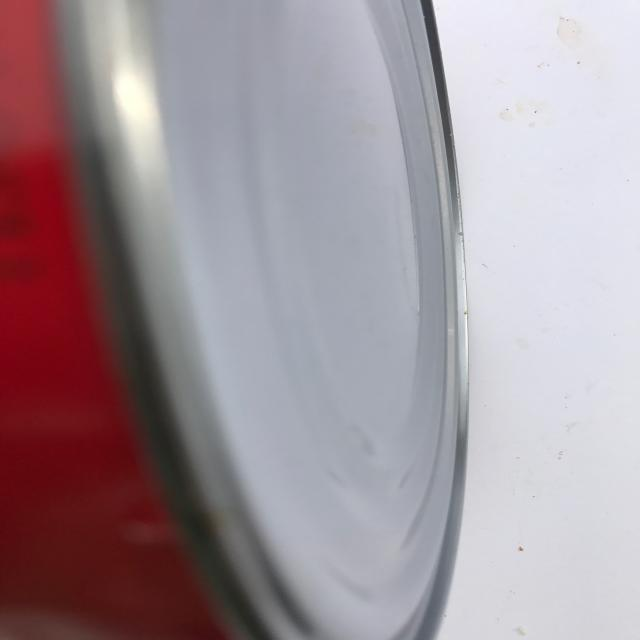metal: (50, 0, 471, 639)
